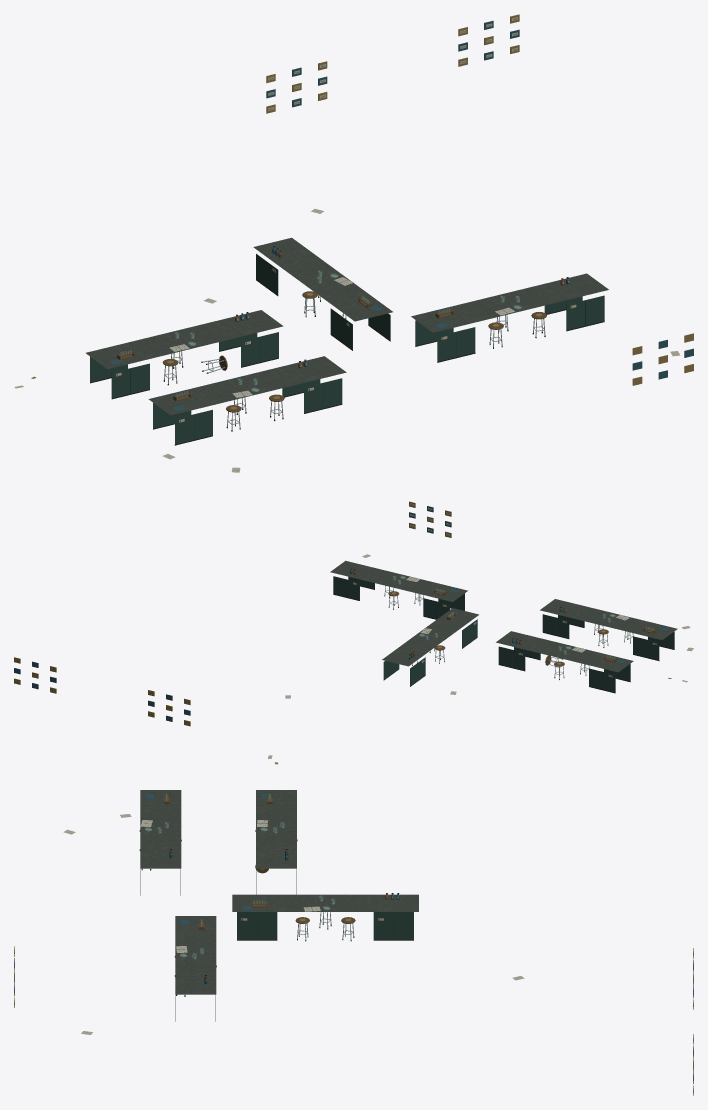
Rendered from science-dressing.glb.
3 renders of one model, top to bottom at view 1: azimuth 30°, elevation 25°; view 2: azimuth 150°, elevation 25°; view 3: azimuth 270°, elevation 25°, orthographic. The views are drawn at different scales.
Visible parts, largest first — view 1: science-bench-east_resin, science-bench-west-south_resin, science-bench-west-north_resin, science-bench-hook_resin, science-bench-west-north_matte, science-bench-east_matte, science-bench-west-south_matte, science-bench-hook_matte, science-south-cabinet_matte, science-prep-east-cabinet_matte, science-prep-north-cabinet_matte; view 2: science-bench-west-south_resin, science-bench-west-north_resin, science-bench-east_resin, science-bench-hook_resin, science-bench-west-north_matte, science-bench-west-south_matte, science-bench-east_matte, science-bench-hook_matte, science-prep-east-cabinet_matte; view 3: science-bench-hook_resin, science-bench-west-south_resin, science-bench-east_resin, science-bench-west-north_resin, science-bench-hook_matte.
Boxes of the visible parts, left/top/right/bottom form: science-bench-east_resin: left=411, top=273, right=608, bottom=332; science-bench-west-south_resin: left=148, top=356, right=346, bottom=415; science-bench-west-north_resin: left=86, top=310, right=283, bottom=369; science-bench-hook_resin: left=253, top=237, right=392, bottom=321; science-bench-west-north_matte: left=90, top=312, right=278, bottom=399; science-bench-east_matte: left=415, top=277, right=604, bottom=362; science-bench-west-south_matte: left=153, top=359, right=342, bottom=445; science-bench-hook_matte: left=256, top=246, right=390, bottom=350; science-south-cabinet_matte: left=632, top=333, right=693, bottom=385; science-prep-east-cabinet_matte: left=458, top=14, right=519, bottom=66; science-prep-north-cabinet_matte: left=266, top=61, right=327, bottom=113; science-bench-west-south_resin: left=540, top=599, right=677, bottom=640; science-bench-west-north_resin: left=496, top=631, right=633, bottom=672; science-bench-east_resin: left=330, top=560, right=467, bottom=601; science-bench-hook_resin: left=382, top=608, right=478, bottom=666; science-bench-west-north_matte: left=498, top=638, right=630, bottom=693; science-bench-west-south_matte: left=542, top=607, right=674, bottom=661; science-bench-east_matte: left=333, top=569, right=464, bottom=619; science-bench-hook_matte: left=383, top=612, right=477, bottom=686; science-prep-east-cabinet_matte: left=14, top=657, right=56, bottom=693; science-bench-hook_resin: left=232, top=894, right=418, bottom=911; science-bench-west-south_resin: left=140, top=790, right=181, bottom=868; science-bench-east_resin: left=175, top=916, right=216, bottom=994; science-bench-west-north_resin: left=256, top=790, right=296, bottom=868; science-bench-hook_matte: left=237, top=893, right=413, bottom=941.
Size of the model in its own units: 22.2 by 1.57 by 19.39.
Materials: 4 (1 with a texture image).
